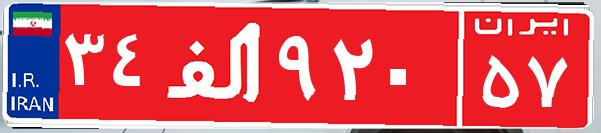0: (385, 28, 445, 110)
2: (330, 28, 385, 110)
3: (57, 26, 110, 107)
4: (110, 28, 158, 105)
5: (475, 38, 525, 113)
7: (525, 38, 570, 115)
9: (273, 28, 330, 110)
الف: (158, 15, 273, 115)
